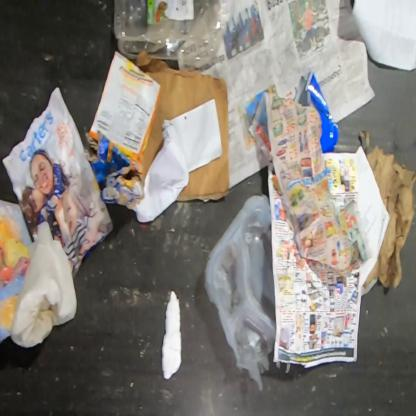cardboard: (128, 48, 233, 202), (358, 130, 415, 292), (88, 50, 160, 162), (0, 195, 35, 348), (81, 129, 146, 211)
rigid_plastic: (204, 194, 277, 391), (113, 0, 229, 69), (294, 68, 339, 154)
